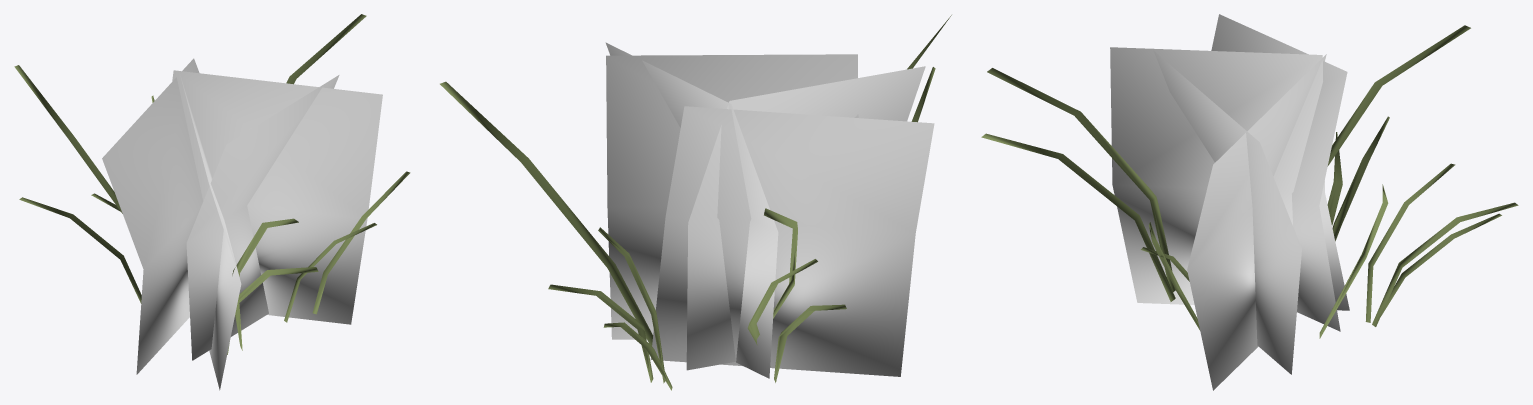
The model's file is V7_Herbes_1_Niveau1.fbx.
The picture shows the model from 3 angles, left to right: view 1: azimuth 30°, elevation 25°; view 2: azimuth 150°, elevation 25°; view 3: azimuth 270°, elevation 25°; orthographic projection. The views are drawn at different scales.
Parts seen in each view (by area): view 1: V7_Herbes_1_Detail1; view 2: V7_Herbes_1_Detail1; view 3: V7_Herbes_1_Detail1.
Part boxes in pixels (x1,y1,x2,y2): V7_Herbes_1_Detail1: (14, 14, 410, 390); V7_Herbes_1_Detail1: (440, 15, 951, 390); V7_Herbes_1_Detail1: (981, 14, 1518, 390).
Size of the model in its own units: 64.26 by 44.19 by 79.41.
